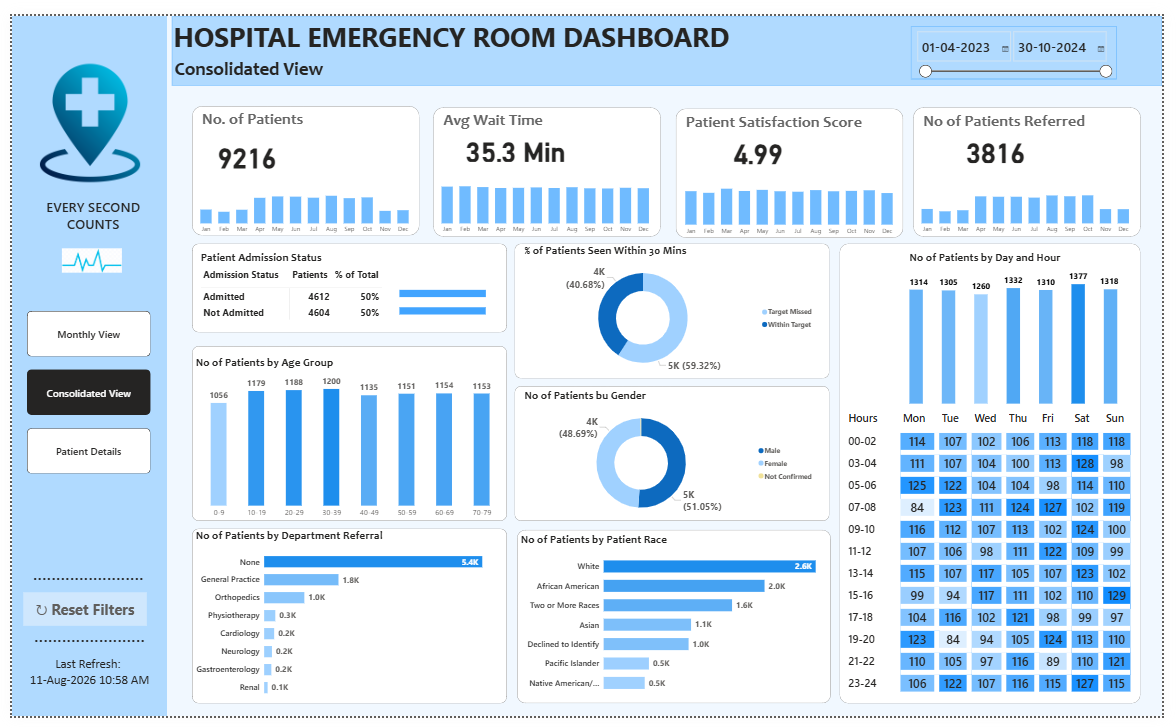

This screenshot's page, from the dashboard's own definition file:
{"tool":"powerbi","page":{"name":"Consolidated View","canvas":[2300,1400],"ordinal":1},"visuals":[{"type":"shape","box":[1656,456,602,920],"z":0},{"type":"shape","box":[0,0,310,1400],"z":1000},{"type":"shape","box":[320.5,0,1979,140],"z":2000},{"type":"textbox","box":[318.6,0,1133.2,87.5],"z":3000},{"type":"textbox","box":[320,78,410,62],"z":4000},{"type":"shape","box":[361,179.7,455,259],"z":5000},{"type":"card","fields":{"Values":["Hospital ER_Data.No of Patients"]},"box":[390,236,160,88],"z":6000},{"type":"slicer","fields":{"Values":["Date Table.Date"]},"box":[1798,20,412,106],"z":7000},{"type":"shape","box":[842.3,181.8,455,259],"z":8000},{"type":"textbox","box":[376,180,240,54],"z":9000},{"type":"columnChart","fields":{"Category":["Date Table.Month"],"Y":["Measures Table.No of Patients"]},"box":[358.4,320.8,456,125],"z":10000},{"type":"card","fields":{"Values":["Measures Table.Avg Wait Time"]},"box":[884.5,235.4,244.9,61.8],"z":11000},{"type":"textbox","box":[857.5,182.5,212.5,52.5],"z":12000},{"type":"columnChart","fields":{"Y":["Avg(Hospital ER_Data.Patient Waittime)"],"Category":["Date Table.Month"]},"box":[840.4,320.8,454,125],"z":13000},{"type":"shape","box":[1327.9,186,455,259],"z":14000},{"type":"card","fields":{"Values":["Measures Table.Avg Satisfaction Score"]},"box":[1370.1,239.7,244.9,61.8],"z":15000},{"type":"textbox","box":[1343.4,187.8,370.9,52.3],"z":16000},{"type":"columnChart","fields":{"Category":["Date Table.Month"],"Y":["Measures Table.Avg Satisfaction Score"]},"box":[1328.4,322.8,454,125],"z":17000},{"type":"shape","box":[1802,182.7,455,259],"z":18000},{"type":"card","fields":{"Values":["Measures Table.Patients Referred"]},"box":[1844.2,236.4,244.9,61.8],"z":19000},{"type":"textbox","box":[1817.6,184.5,370.9,52.3],"z":20000},{"type":"columnChart","fields":{"Category":["Date Table.Month"],"Y":["Measures Table.Patients Referred"]},"box":[1800.4,318.8,454,125],"z":21000},{"type":"shape","box":[1006,456,630,270],"z":22000},{"type":"shape","box":[360,456,630,178],"z":23000},{"type":"pivotTable","title":"Patient Admission Status","fields":{"Rows":["Hospital ER_Data.Admission Status"],"Values":["Measures Table.No of Patients1","Measures Table.No of Patients"]},"box":[372.8,467.6,602,156],"z":24000},{"type":"barChart","fields":{"Category":["Hospital ER_Data.Admission Status"],"Y":["Measures Table.No of Patients"]},"box":[769.3,518.1,235,105],"z":25000},{"type":"shape","box":[1010.5,1027.2,627.7,347.1],"z":26000},{"type":"clusteredBarChart","fields":{"Category":["Hospital ER_Data.Patient Race"],"Y":["Measures Table.No of Patients"]},"box":[1012.9,1031.9,630.1,335.3],"z":27000},{"type":"shape","box":[360,1024,630,350],"z":28000},{"type":"clusteredBarChart","fields":{"Category":["Hospital ER_Data.Department Referral"],"Y":["Measures Table.No of Patients"]},"box":[362,1024,612,350],"z":29000},{"type":"donutChart","title":"% of Patients Seen Within 30  Mins","fields":{"Y":["Measures Table.No of Patients"],"Category":["Hospital ER_Data.Waittime Status"]},"box":[1020,456,594,270],"z":30000},{"type":"shape","box":[1006,740,630,270],"z":31000},{"type":"donutChart","title":"No of Patients bu Gender","fields":{"Y":["Measures Table.No of Patients"],"Category":["Hospital ER_Data.Patient Gender"]},"box":[1020,746,594,270],"z":32000},{"type":"shape","box":[360.5,660.1,630,350],"z":33000},{"type":"clusteredColumnChart","fields":{"Category":["Hospital ER_Data.Age Group"],"Y":["Measures Table.No of Patients"]},"box":[362.5,678.1,630,336],"z":34000},{"type":"pivotTable","fields":{"Rows":["Hospital ER_Data.Admission Hour Interval"],"Columns":["Date Table.Day"],"Values":["Measures Table.No of Patients"]},"box":[1662,782,606,586],"z":35000},{"type":"clusteredColumnChart","title":"No of Patients by Day and Hour","fields":{"Y":["Measures Table.No of Patients"],"Category":["Date Table.Day"]},"box":[1790,468,428,314],"z":36000},{"type":"image","box":[32.5,17.5,247.5,392.5],"z":37000},{"type":"pageNavigator","box":[30,590,247.5,325],"z":38000},{"type":"card","fields":{"Values":["Measures Table.Last Refresh"]},"box":[22.5,1267.5,265,82.5],"z":39000},{"type":"textbox","box":[27.5,1200,255,75],"z":40000},{"type":"actionButton","box":[22.5,1152.5,247.5,67.5],"z":41000},{"type":"textbox","box":[25,1077.5,255,75],"z":42000},{"type":"textbox","box":[12,357,300,165],"z":43000},{"type":"image","box":[96,454,130,68],"z":44000}]}

Visuals, with their boxes in screenshot pixels (x1, y1, x2, y2), scaled from the page's 2300x1400 canvas onto the 1176x728 screenshot:
shape: 847, 237, 1155, 716
shape: 0, 0, 159, 727
shape: 164, 0, 1175, 73
textbox: 163, 0, 742, 46
textbox: 164, 41, 373, 73
shape: 185, 93, 417, 228
card - Hospital ER_Data.No of Patients: 199, 123, 281, 168
slicer - Date Table.Date: 919, 10, 1130, 66
shape: 431, 95, 663, 229
textbox: 192, 94, 315, 122
columnChart - Date Table.Month x Measures Table.No of Patients: 183, 167, 416, 232
card - Measures Table.Avg Wait Time: 452, 122, 577, 155
textbox: 438, 95, 547, 122
columnChart - Avg(Hospital ER_Data.Patient Waittime) x Date Table.Month: 430, 167, 662, 232
shape: 679, 97, 912, 231
card - Measures Table.Avg Satisfaction Score: 701, 125, 826, 157
textbox: 687, 98, 877, 125
columnChart - Date Table.Month x Measures Table.Avg Satisfaction Score: 679, 168, 911, 233
shape: 921, 95, 1154, 230
card - Measures Table.Patients Referred: 943, 123, 1068, 155
textbox: 929, 96, 1119, 123
columnChart - Date Table.Month x Measures Table.Patients Referred: 921, 166, 1153, 231
shape: 514, 237, 836, 378
shape: 184, 237, 506, 330
"Patient Admission Status" pivotTable: 191, 243, 498, 324
barChart - Hospital ER_Data.Admission Status x Measures Table.No of Patients: 393, 269, 514, 324
shape: 517, 534, 838, 715
clusteredBarChart - Hospital ER_Data.Patient Race x Measures Table.No of Patients: 518, 537, 840, 711
shape: 184, 532, 506, 714
clusteredBarChart - Hospital ER_Data.Department Referral x Measures Table.No of Patients: 185, 532, 498, 714
"% of Patients Seen Within 30  Mins" donutChart: 522, 237, 825, 378
shape: 514, 385, 836, 525
"No of Patients bu Gender" donutChart: 522, 388, 825, 528
shape: 184, 343, 506, 525
clusteredColumnChart - Hospital ER_Data.Age Group x Measures Table.No of Patients: 185, 353, 507, 527
pivotTable - Hospital ER_Data.Admission Hour Interval x Date Table.Day: 850, 407, 1160, 711
"No of Patients by Day and Hour" clusteredColumnChart: 915, 243, 1134, 407
image: 17, 9, 143, 213
pageNavigator: 15, 307, 142, 476
card - Measures Table.Last Refresh: 12, 659, 147, 702
textbox: 14, 624, 144, 663
actionButton: 12, 599, 138, 634
textbox: 13, 560, 143, 599
textbox: 6, 186, 160, 271
image: 49, 236, 116, 271
